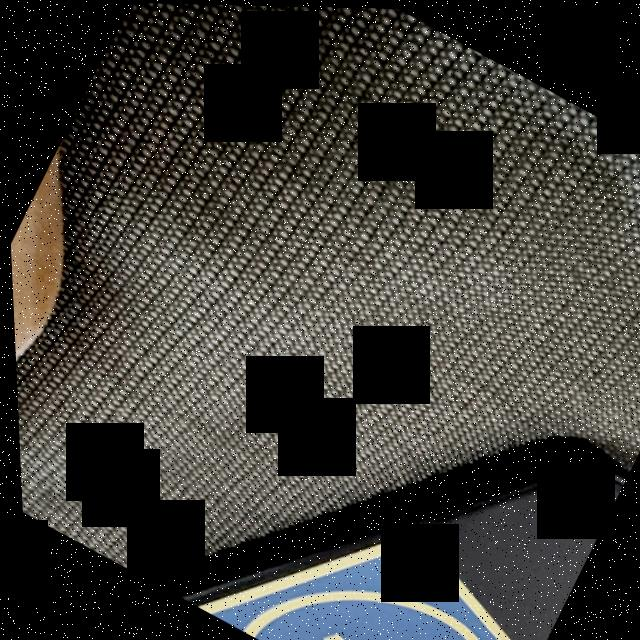Marker: (133, 419, 558, 640)
